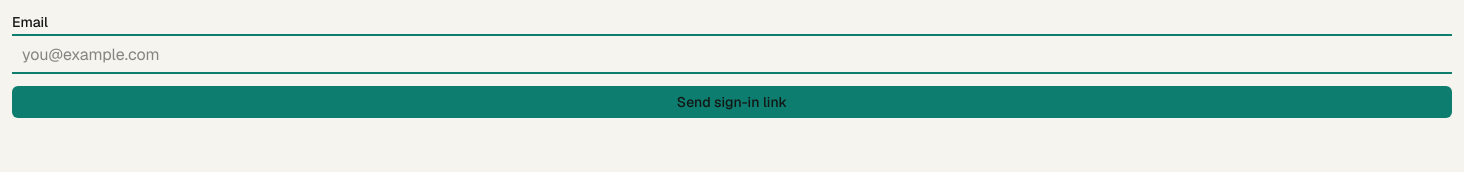
Scenario: AdminSignInForm › shows Firebase errors in plain words
Type "sara@example.com" into the field labelled "Email" at (732, 54), box [12,38,1452,70]
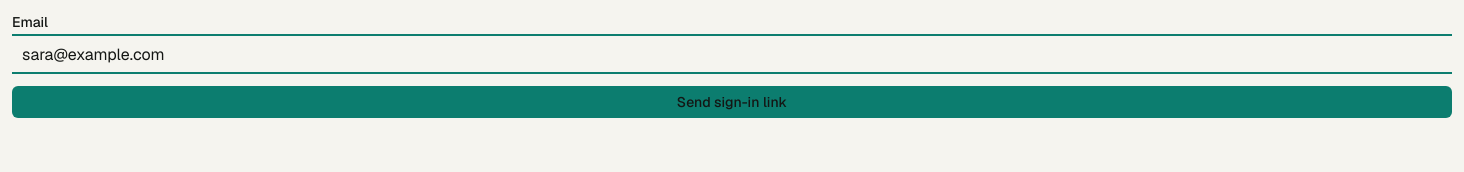
Click the button "Send sign-in link" at (732, 102), box [12,86,1452,118]
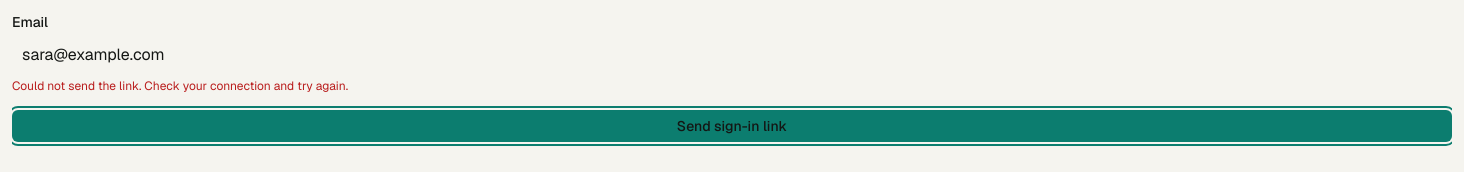
Expected: the message reads "Could not send the link. Check your connection and try again.", [12,78,348,94]
